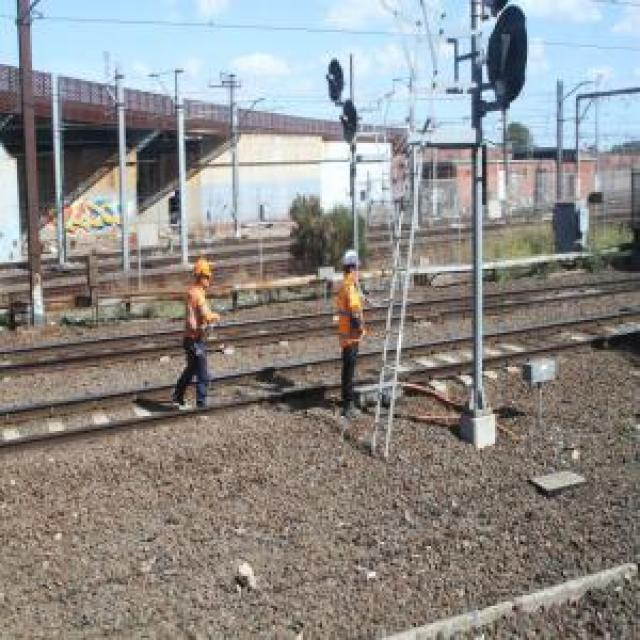rail: (1, 305, 640, 458), (5, 273, 640, 380)
